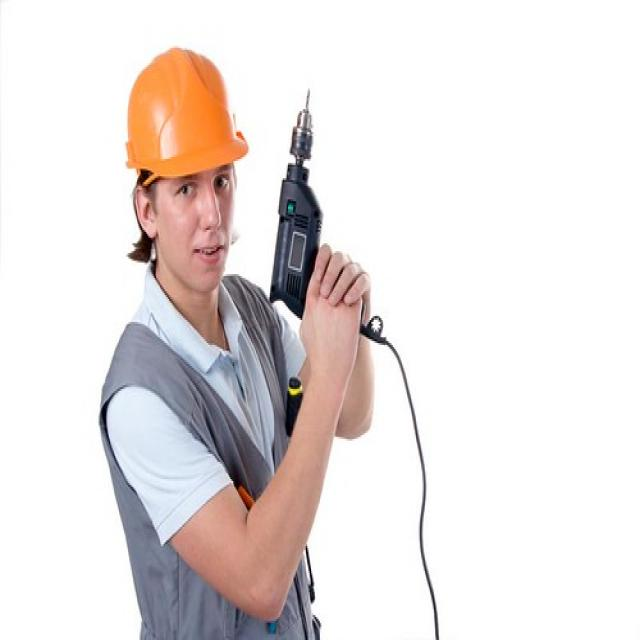Safety-Helmet: (122, 40, 250, 186)
